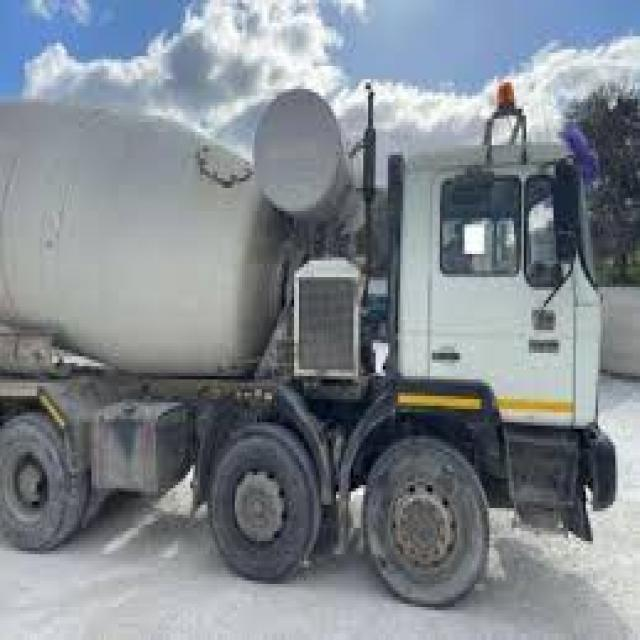Mixer Truck: (0, 86, 620, 607)
